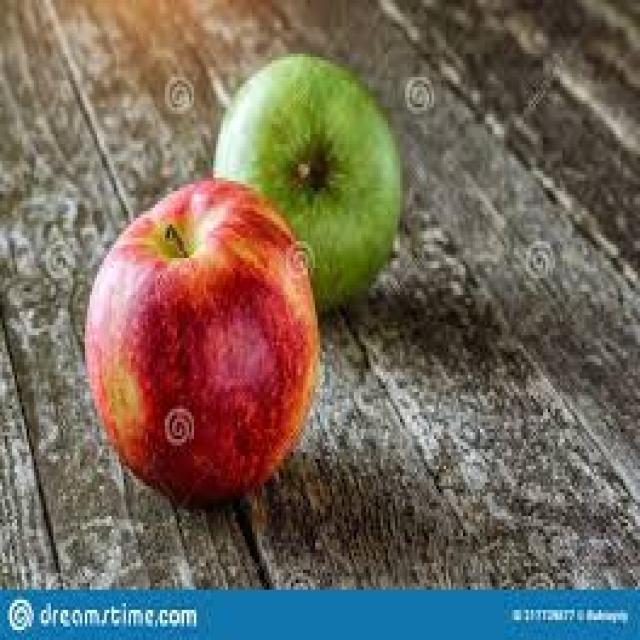Fresh Apple: (85, 180, 315, 525), (227, 60, 393, 300)
